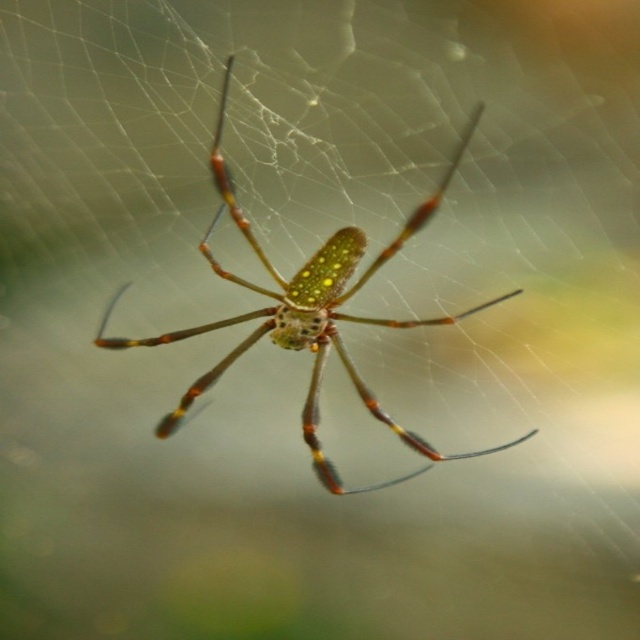Spider: (94, 55, 539, 495)
